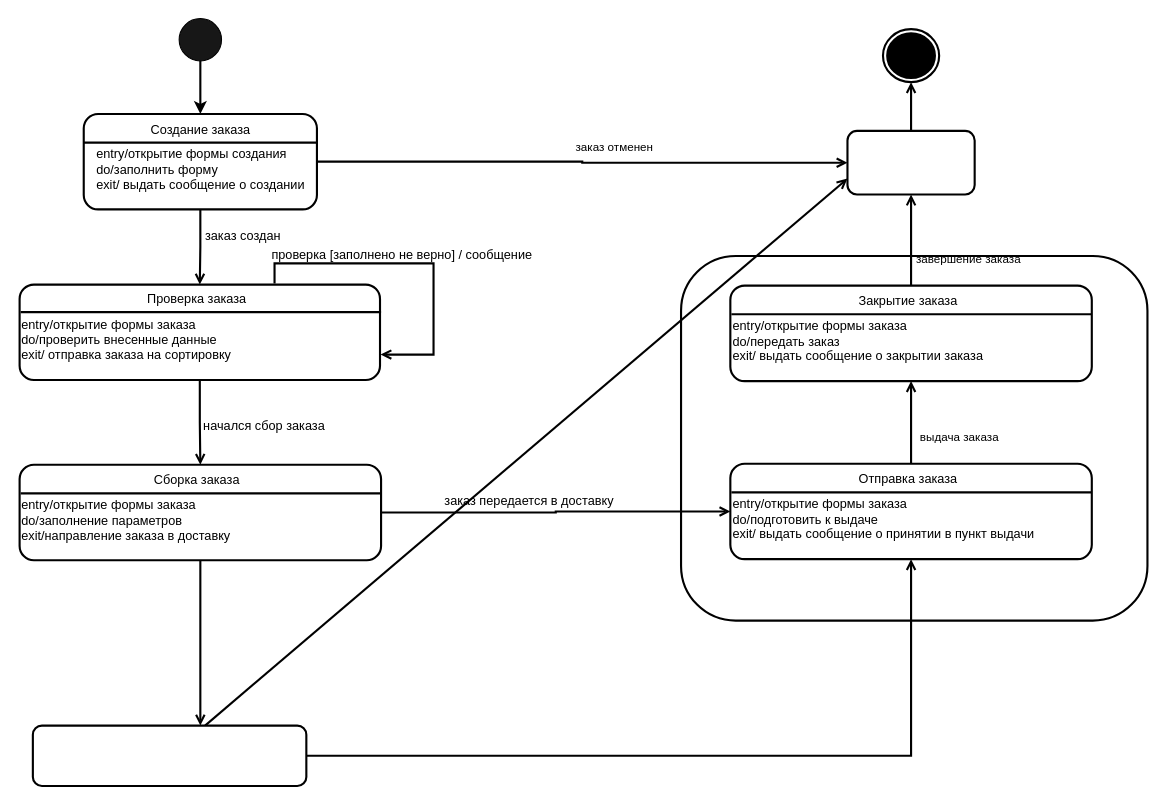
This 1166x806 diagram has some shape labels left out. Here are the shapes that lost their labels. From the top down, the box of each, then its label:
(846, 129, 975, 195): Заказ завершен
(31, 724, 307, 787): Отсутствие заказанных товаров на складе
